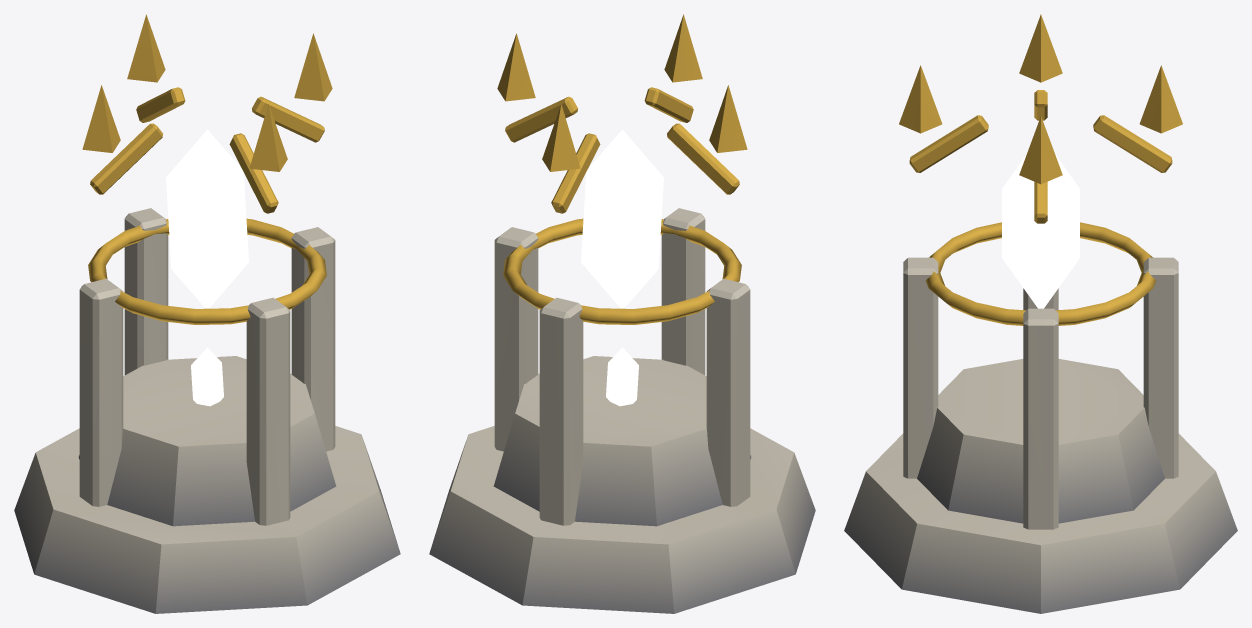
File: wind_shrine.glb
3 renders of one model, left to right at view 1: azimuth 30°, elevation 25°; view 2: azimuth 150°, elevation 25°; view 3: azimuth 270°, elevation 25°, orthographic.
Parts seen in each view (by area): view 1: Shrine, Glow; view 2: Shrine, Glow; view 3: Shrine, Glow.
Boxes of the visible parts, x1,y1,x2,y2 form: Shrine: (14,14,400,613); Glow: (166,129,248,406); Shrine: (429,14,815,613); Glow: (581,129,663,406); Shrine: (844,14,1237,613); Glow: (1002,154,1079,308).
Size of the model in its own units: 1.8 by 2.4 by 1.8.
